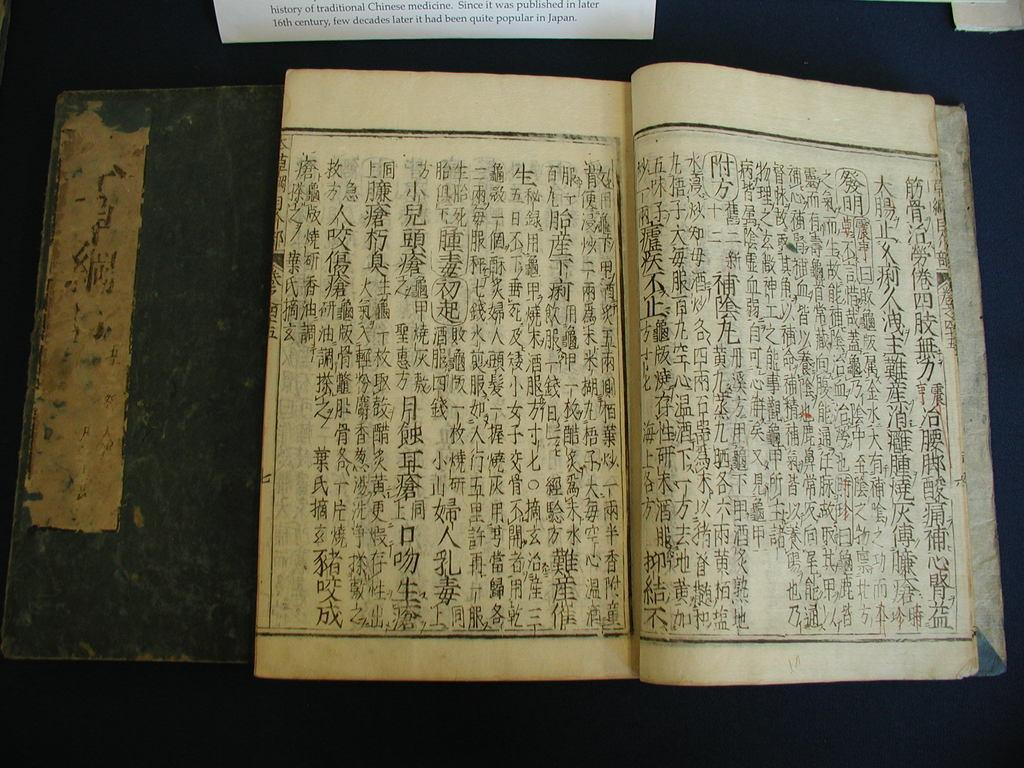book: (239, 60, 1014, 680)
